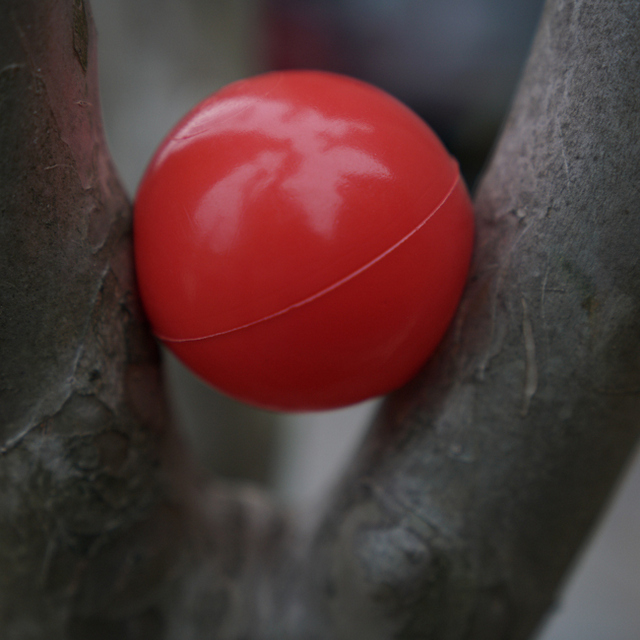Ball: (134, 69, 482, 418)
